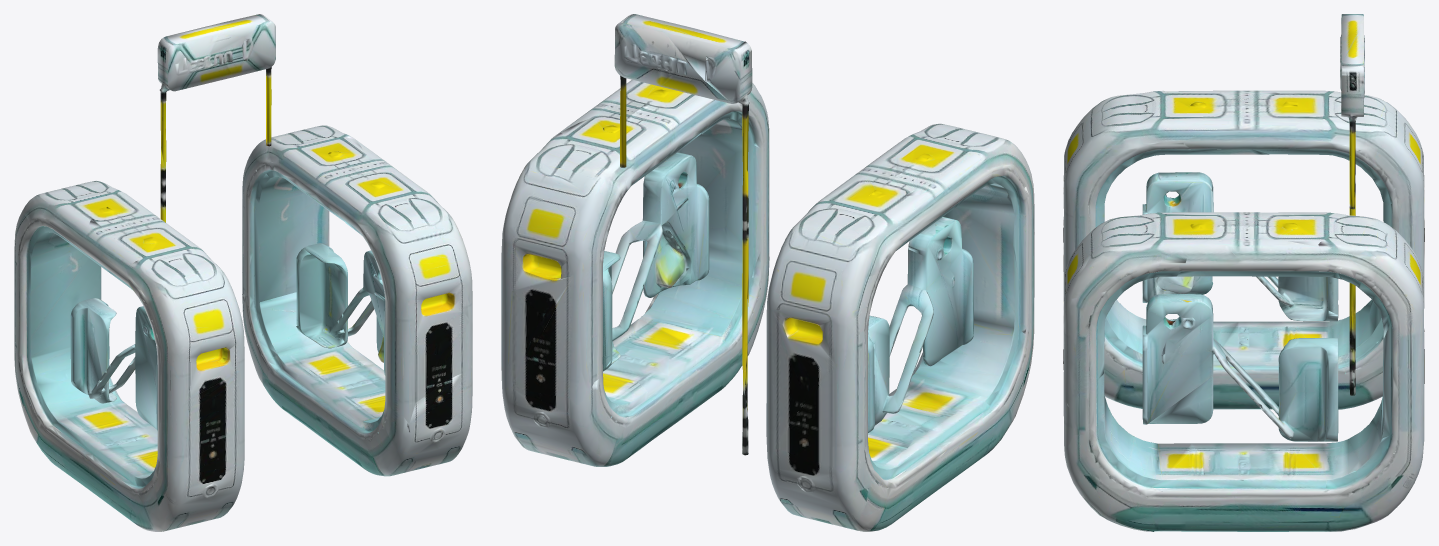
Rendered from station_gate.glb.
3 renders of one model, left to right at view 1: azimuth 30°, elevation 25°; view 2: azimuth 150°, elevation 25°; view 3: azimuth 270°, elevation 25°, orthographic. The views are drawn at different scales.
Parts seen in each view (by area): view 1: Mesh_0; view 2: Mesh_0; view 3: Mesh_0.
Part boxes in pixels (x1=…): Mesh_0: x1=14, y1=14, x2=472, y2=531; Mesh_0: x1=501, y1=14, x2=1034, y2=531; Mesh_0: x1=1063, y1=14, x2=1424, y2=531.
Size of the model in its own units: 1.65 by 2 by 1.53.
1 material, 1 textured.
